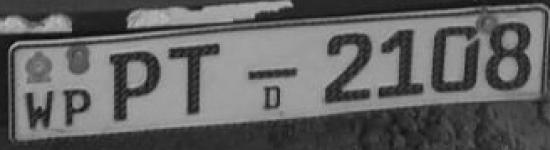-: (245, 63, 302, 82)
0: (430, 20, 485, 98)
1: (376, 24, 429, 102)
2: (320, 30, 376, 106)
8: (484, 16, 536, 94)
P: (102, 46, 163, 124), (58, 83, 95, 129)
T: (163, 38, 222, 118)
W: (21, 87, 56, 135)
